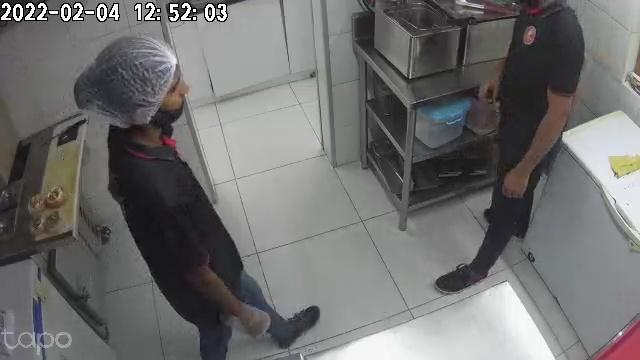no_gloves: (502, 161, 529, 200)
